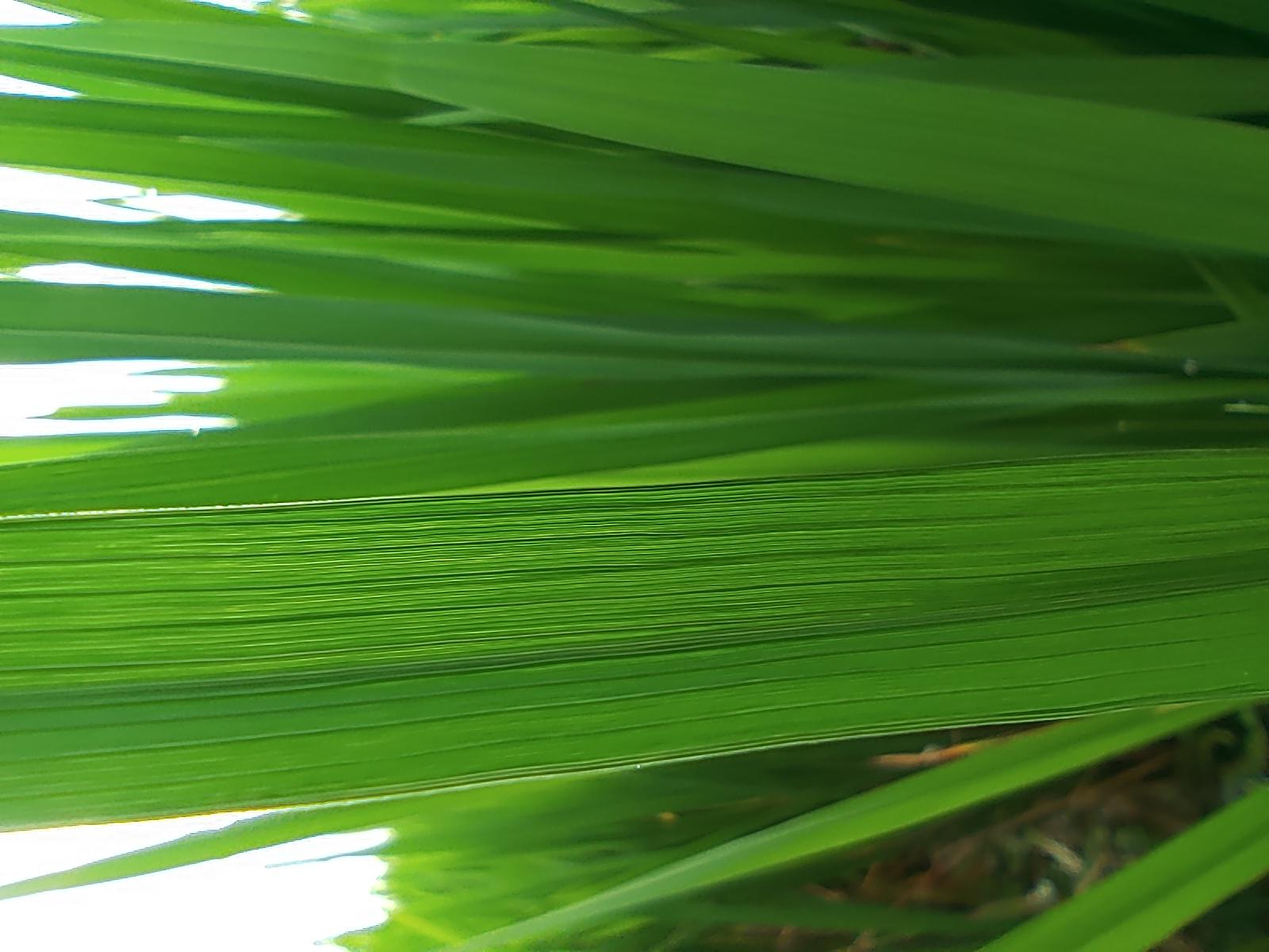Healthy: (163, 0, 672, 951)
